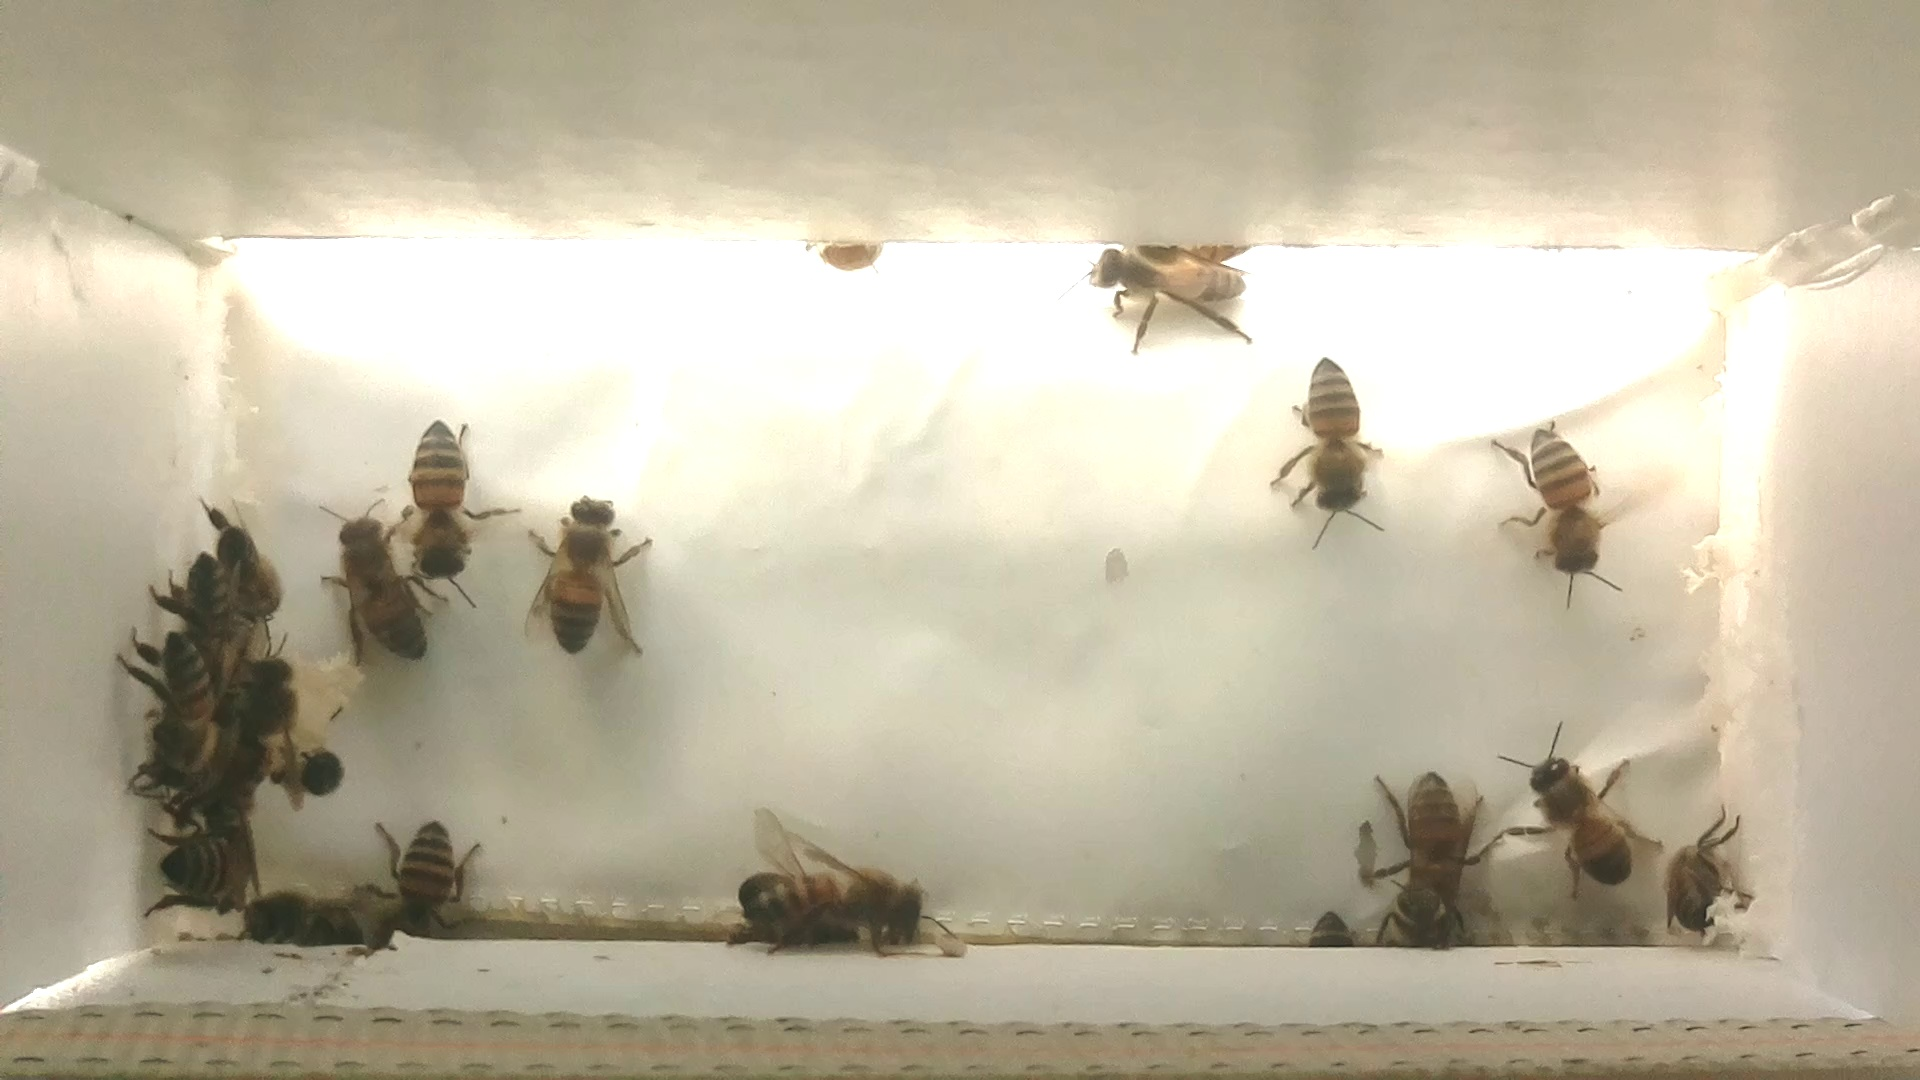bee: (1466, 400, 1640, 620), (725, 808, 948, 964), (1495, 713, 1662, 899), (1259, 345, 1404, 549), (524, 480, 665, 670), (1354, 749, 1503, 928), (382, 410, 512, 615), (315, 501, 454, 680), (1069, 235, 1266, 353), (361, 804, 500, 956), (129, 621, 243, 803), (229, 659, 349, 819), (1643, 793, 1759, 949), (124, 814, 280, 923), (153, 550, 264, 684), (195, 502, 301, 632), (236, 884, 373, 960), (1379, 880, 1470, 960), (1296, 903, 1364, 956)
